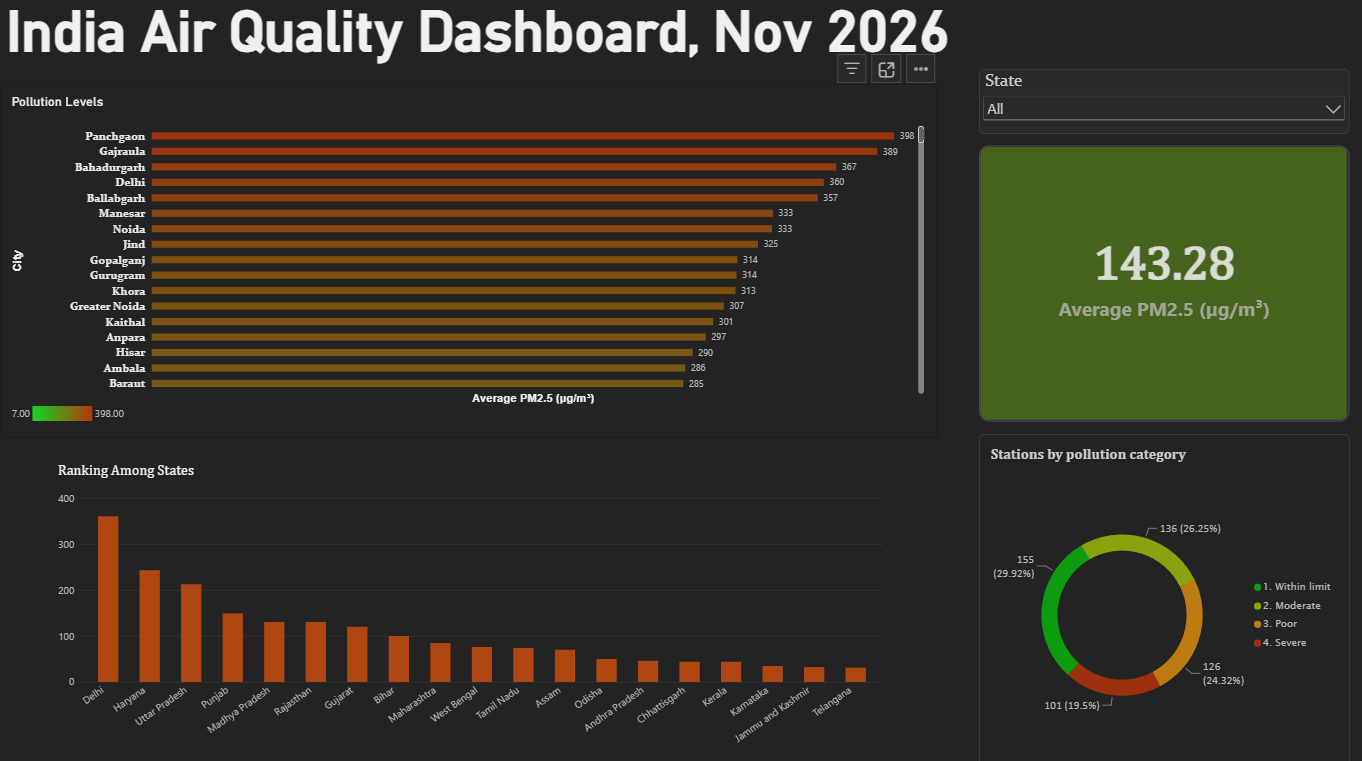

The dashboard page shown, as its layout file describes it:
{"tool":"powerbi","page":{"name":"Page 1","canvas":[1920,1080],"ordinal":0},"visuals":[{"type":"slicer","fields":{"Values":["air_quality v_states.state"]},"box":[1375,97.5,519.7,91.5],"z":0},{"type":"textbox","box":[10,0,1463.2,119],"z":1000},{"type":"cardVisual","fields":{"Data":["Avg(air_quality v_station_map.pm25)"]},"box":[1375,205,519.7,388.1],"z":2000},{"type":"clusteredBarChart","title":"Pollution Levels","fields":{"Category":["air_quality v_station_map.city"],"Y":["Avg(air_quality v_station_map.pm25)"]},"box":[2.5,120,1312.5,495],"z":3000},{"type":"donutChart","title":"Stations by pollution category","fields":{"Category":["air_quality v_pm25_category.category"],"Y":["Count(air_quality v_pm25_category.station)"]},"box":[1375,610,520,470],"z":4000},{"type":"clusteredColumnChart","title":"Ranking Among States","fields":{"Category":["air_quality v_state_rank.state"],"Y":["Avg(air_quality v_state_rank.avg_pm25)"]},"box":[67.5,635,1190,445],"z":5000}]}

Visuals, with their boxes in screenshot pixels (x1, y1, x2, y2), scaled from the page's 1920x1080 canvas onto the 1362x761 screenshot:
slicer - air_quality v_states.state: Rect(975, 69, 1344, 133)
textbox: Rect(7, 0, 1045, 84)
cardVisual - Avg(air_quality v_station_map.pm25): Rect(975, 144, 1344, 418)
"Pollution Levels" clusteredBarChart: Rect(2, 85, 933, 433)
"Stations by pollution category" donutChart: Rect(975, 430, 1344, 760)
"Ranking Among States" clusteredColumnChart: Rect(48, 447, 892, 760)
